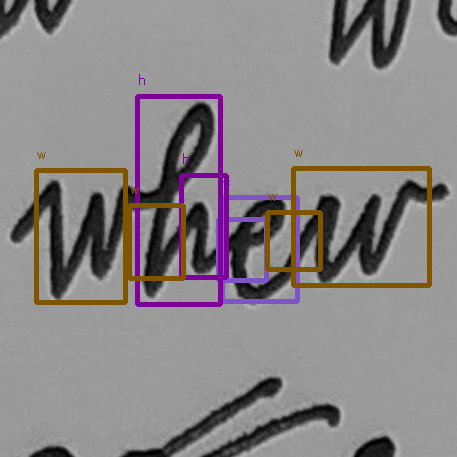e: (223, 191, 303, 307)
h: (138, 98, 221, 302)
w: (305, 172, 420, 286), (38, 172, 134, 307)
